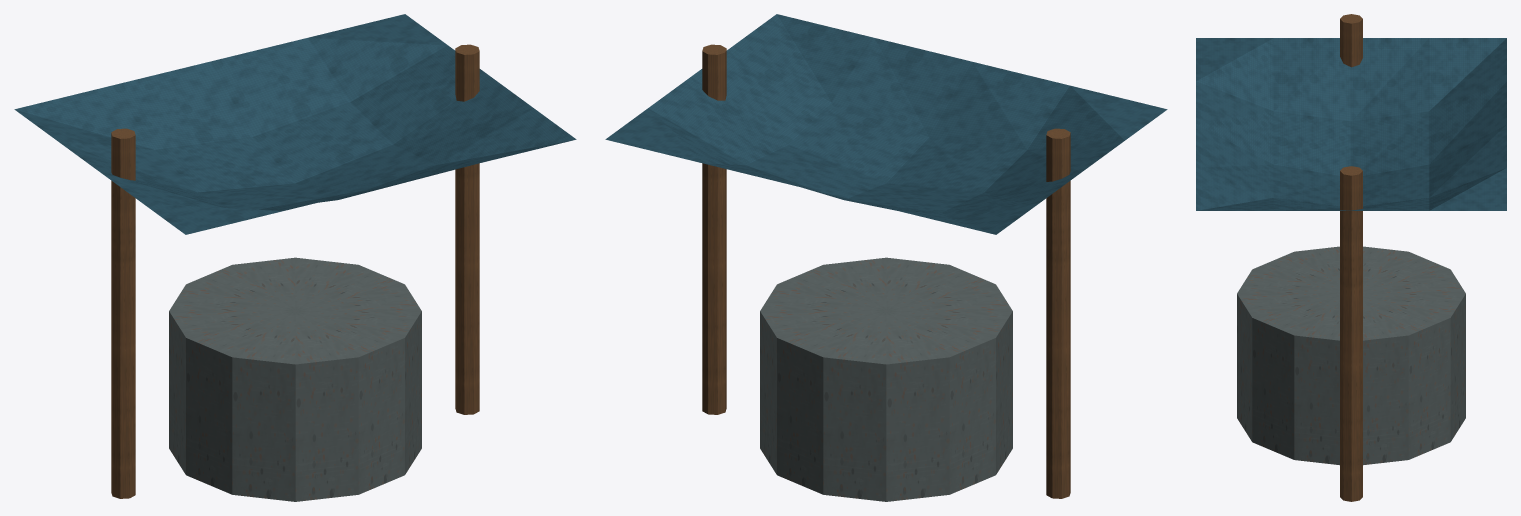
The model's file is pr-016_water_collector__collecting.obj.
3 renders of one model, left to right at view 1: azimuth 30°, elevation 25°; view 2: azimuth 150°, elevation 25°; view 3: azimuth 270°, elevation 25°, orthographic. The views are drawn at different scales.
Parts seen in each view (by area): view 1: pr-016_water_collector__collecting; view 2: pr-016_water_collector__collecting; view 3: pr-016_water_collector__collecting.
Boxes of the visible parts, x1=… form: pr-016_water_collector__collecting: x1=14, y1=14, x2=576, y2=501; pr-016_water_collector__collecting: x1=605, y1=14, x2=1167, y2=501; pr-016_water_collector__collecting: x1=1196, y1=14, x2=1506, y2=501.
Bounding box in the file's own units: 1.25 × 1.1 × 0.95.
3 materials, 3 textured.
